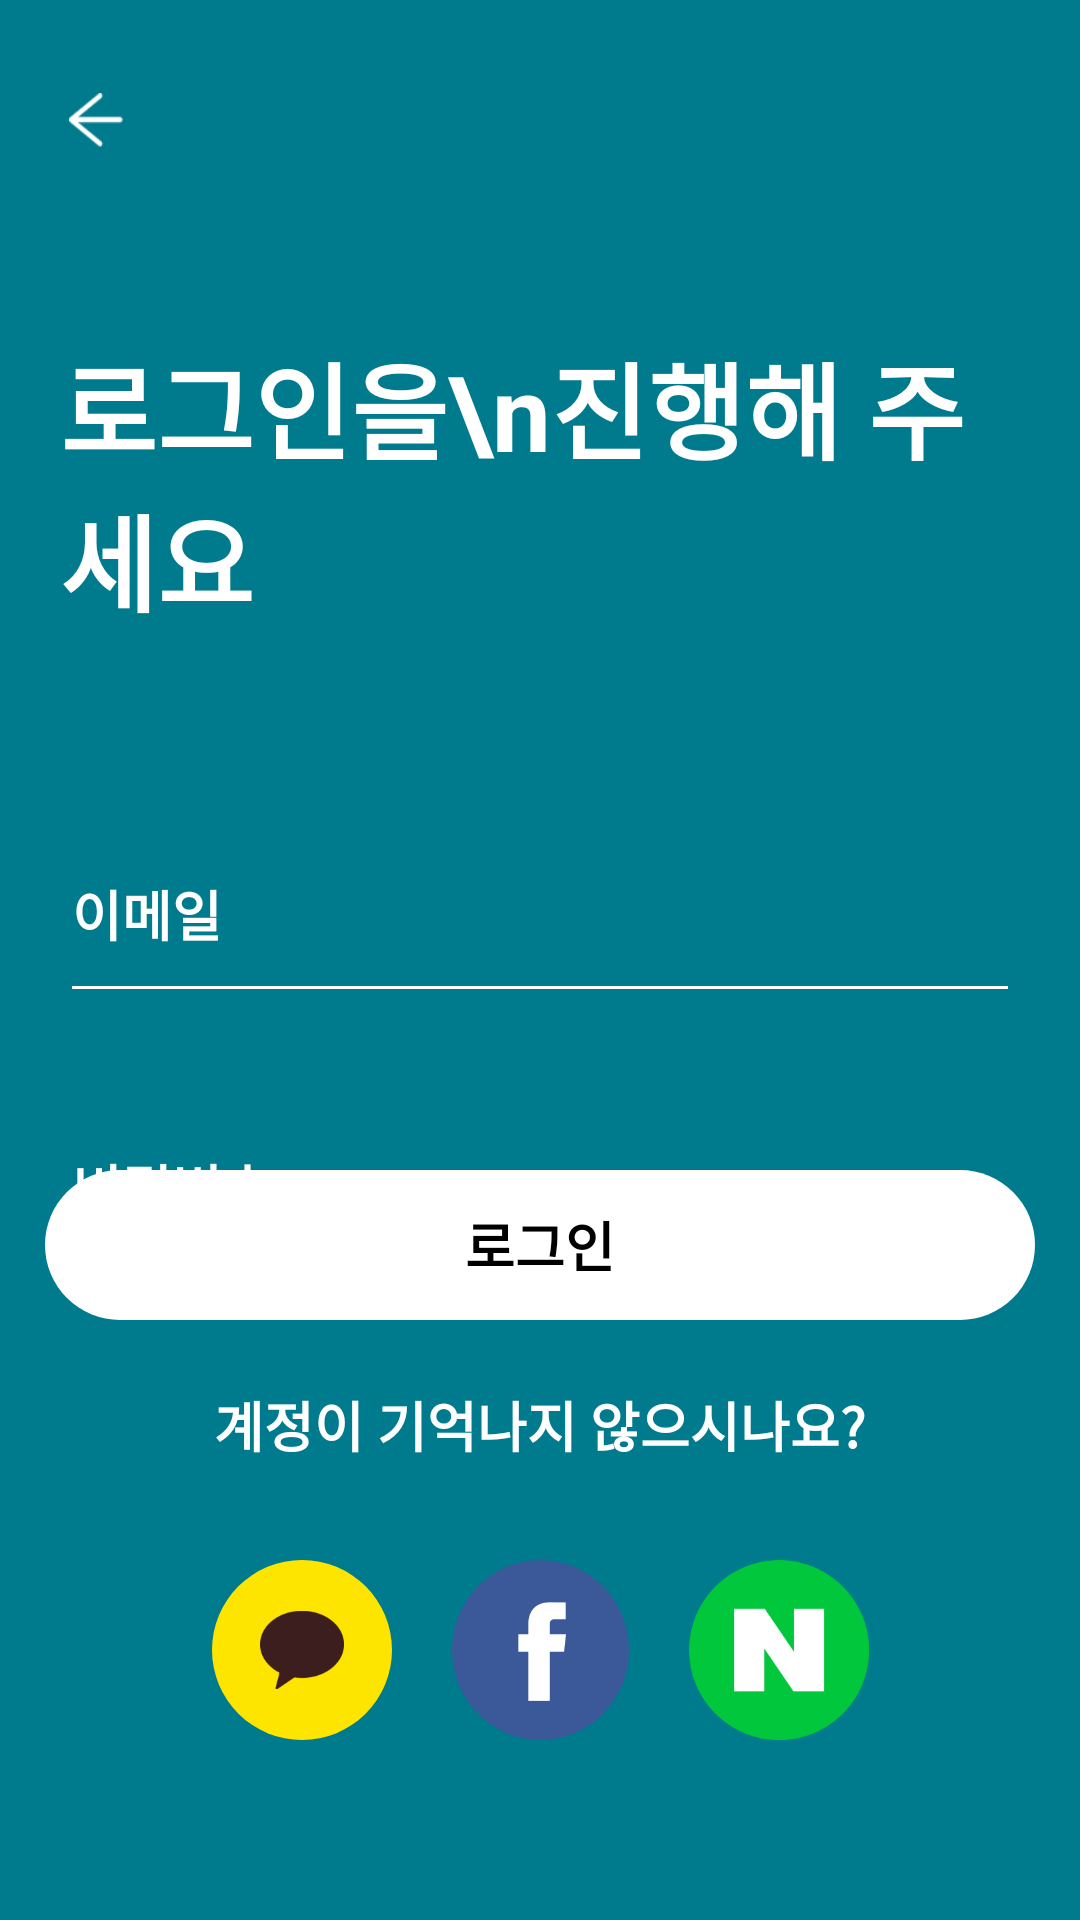

Icon click points for this 1080px x 1920px phone screenshot, format (x=x, y=y):
back: (x=96, y=120)
